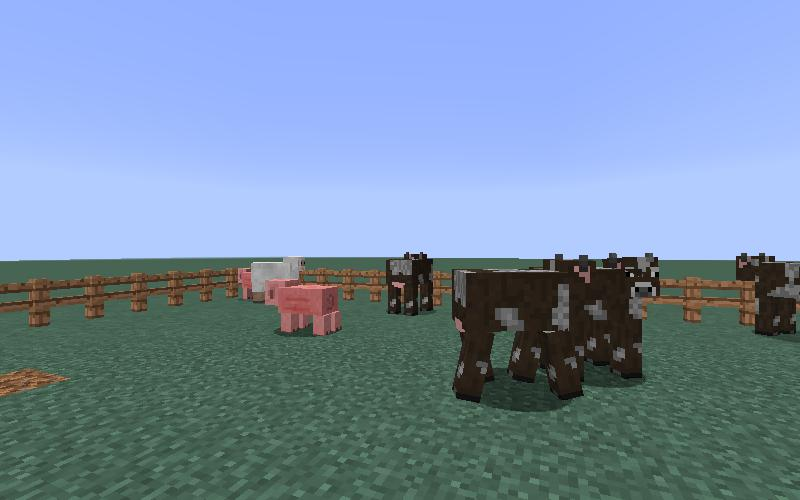cow: (448, 253, 601, 406), (596, 254, 661, 380), (731, 249, 800, 338), (382, 250, 438, 317)
pig: (264, 279, 345, 338)
sheep: (249, 253, 303, 305)
